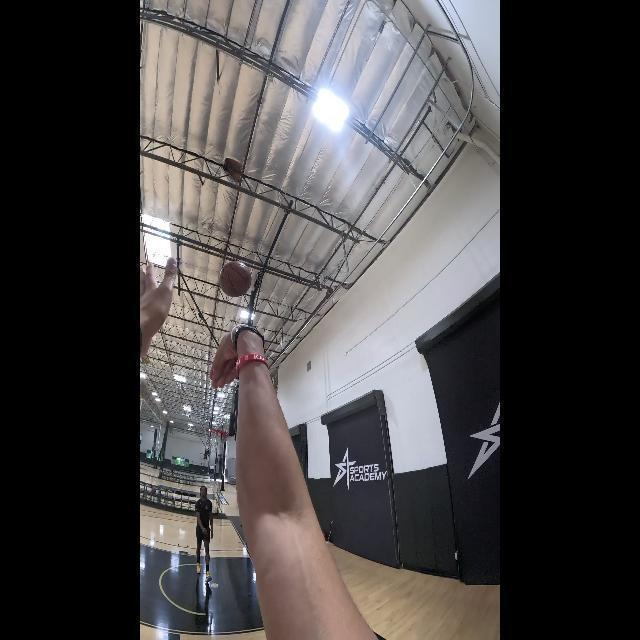ball: (218, 261, 251, 296)
